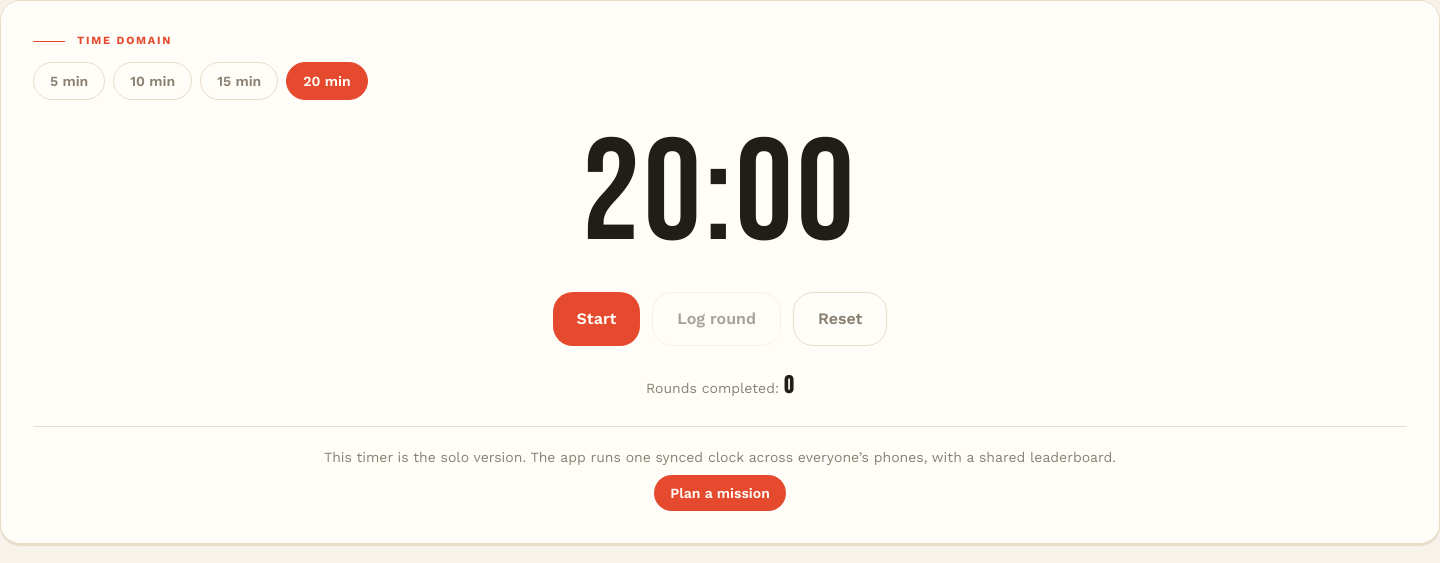
Test: FreeAmrapTimer › stops at zero rather than running negative
Click the button "5 min". click: [69, 80]
box: left=33, top=62, right=105, bottom=100
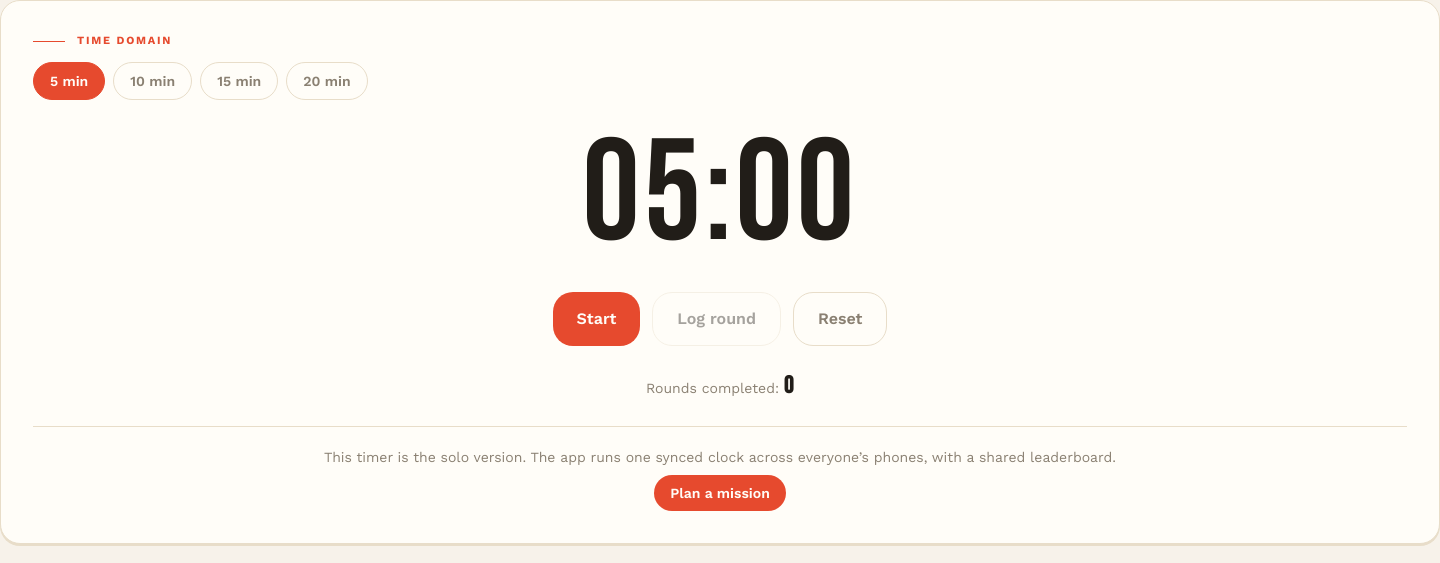
Click the button "Start". click: [596, 318]
box: left=552, top=292, right=640, bottom=346
Wait 330000 ms
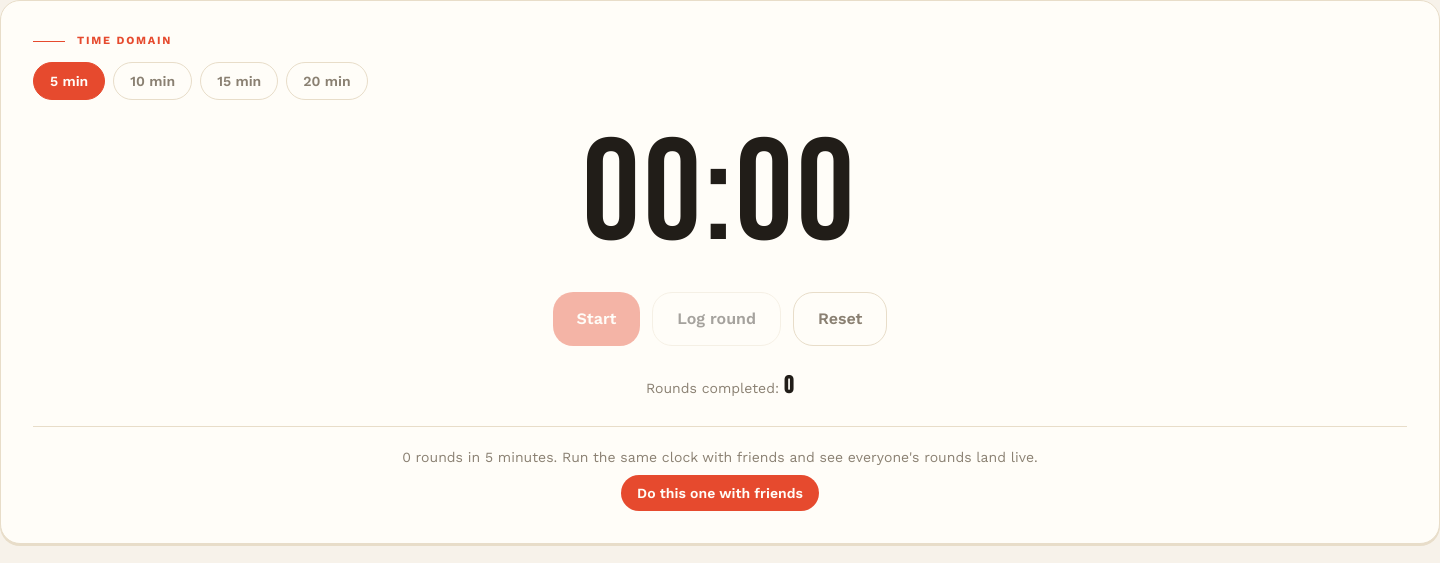
Expected: the button "Start" is disabled, left=552, top=292, right=640, bottom=346
